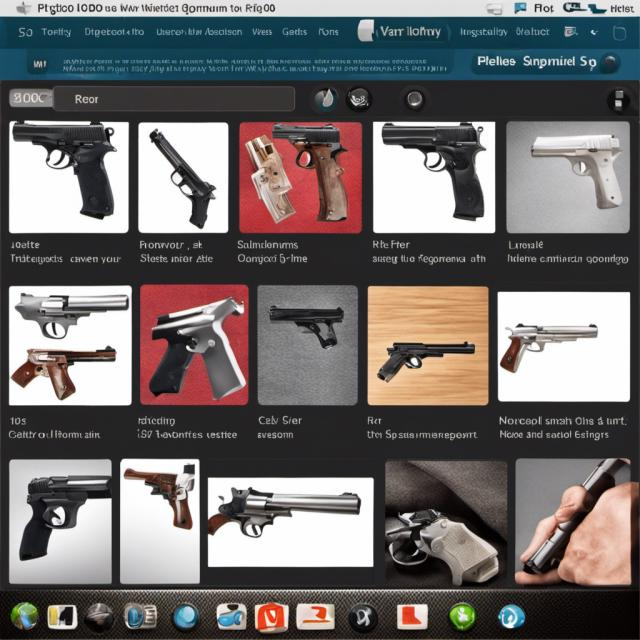gun: (8, 115, 117, 219), (381, 120, 485, 221), (202, 481, 368, 543), (386, 505, 506, 583), (270, 121, 353, 220), (19, 473, 113, 559), (143, 127, 220, 228), (12, 345, 124, 412), (536, 130, 624, 214), (499, 310, 605, 376), (12, 287, 139, 339), (372, 337, 481, 385), (126, 466, 195, 537), (269, 301, 347, 353)
